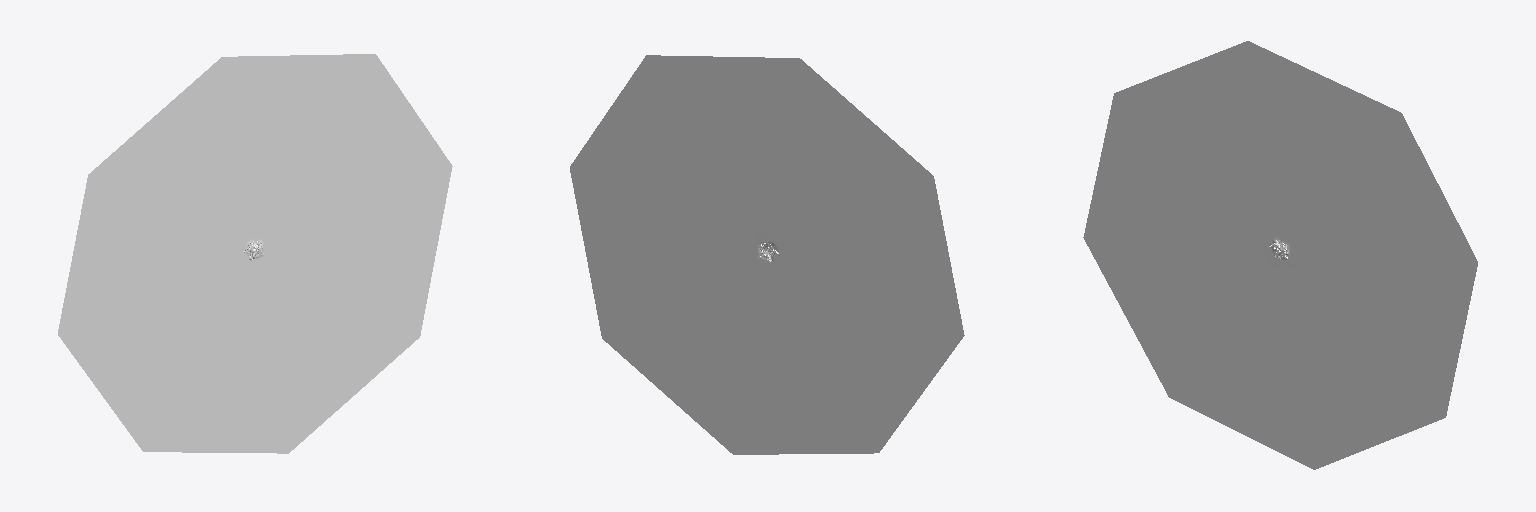
Rendered from deathisland_Lightmap.obj.
3 renders of one model, left to right at view 1: azimuth 30°, elevation 25°; view 2: azimuth 150°, elevation 25°; view 3: azimuth 330°, elevation 25°, orthographic.
Parts seen in each view (by area): view 1: deathisland_Lightmap_1; view 2: deathisland_Lightmap_1; view 3: deathisland_Lightmap_1.
Boxes of the visible parts, x1,y1,x2,y2 form: deathisland_Lightmap_1: [58, 54, 452, 453]; deathisland_Lightmap_1: [570, 55, 964, 454]; deathisland_Lightmap_1: [1083, 41, 1477, 469].
Bounding box in the file's own units: 272765 × 272541 × 2259.